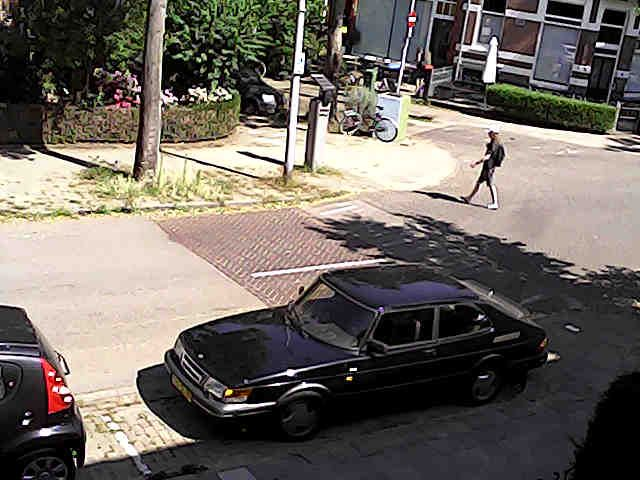male: (461, 126, 504, 209)
suv: (165, 264, 547, 438), (0, 306, 85, 479)
